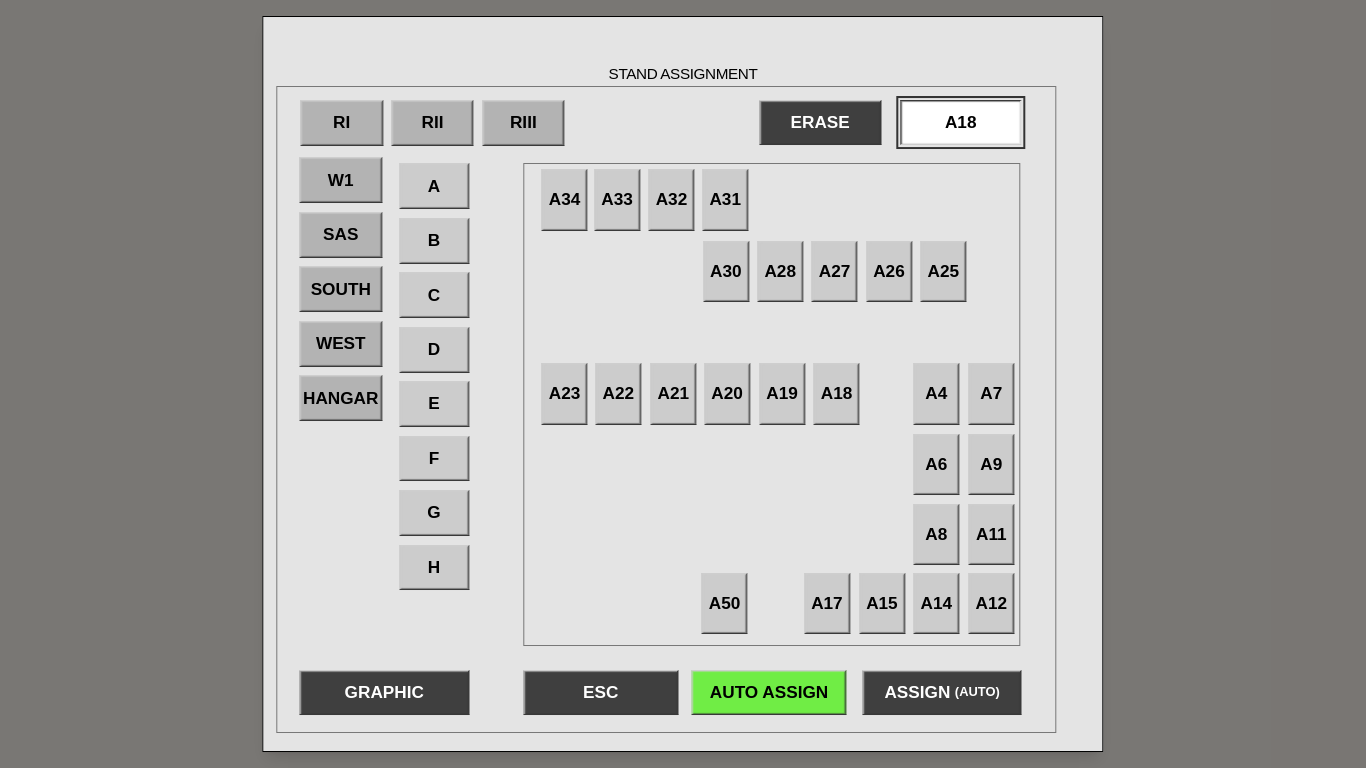
Test: arrival stand assignment dialog › shows the assignment mode or stand in smaller parentheses
Expected: the button "ASSIGN (AUTO)" is shown, [863,670,1021,715]
Click the button "B".
click(434, 241)  # box [399,218,469,264]
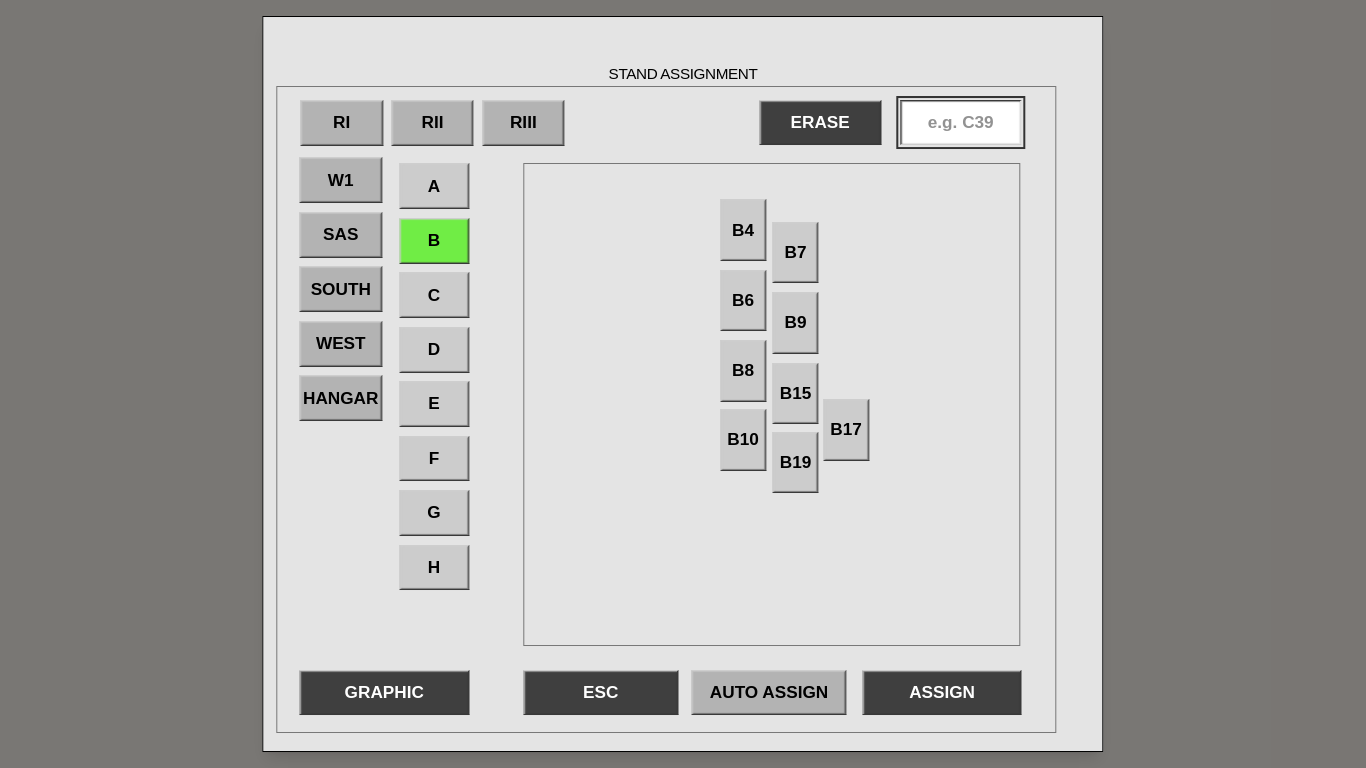
Result: the button "ASSIGN" is disabled at [863,670,1021,715]
Click the button "B6".
click(743, 300)  # box [720,270,766,331]
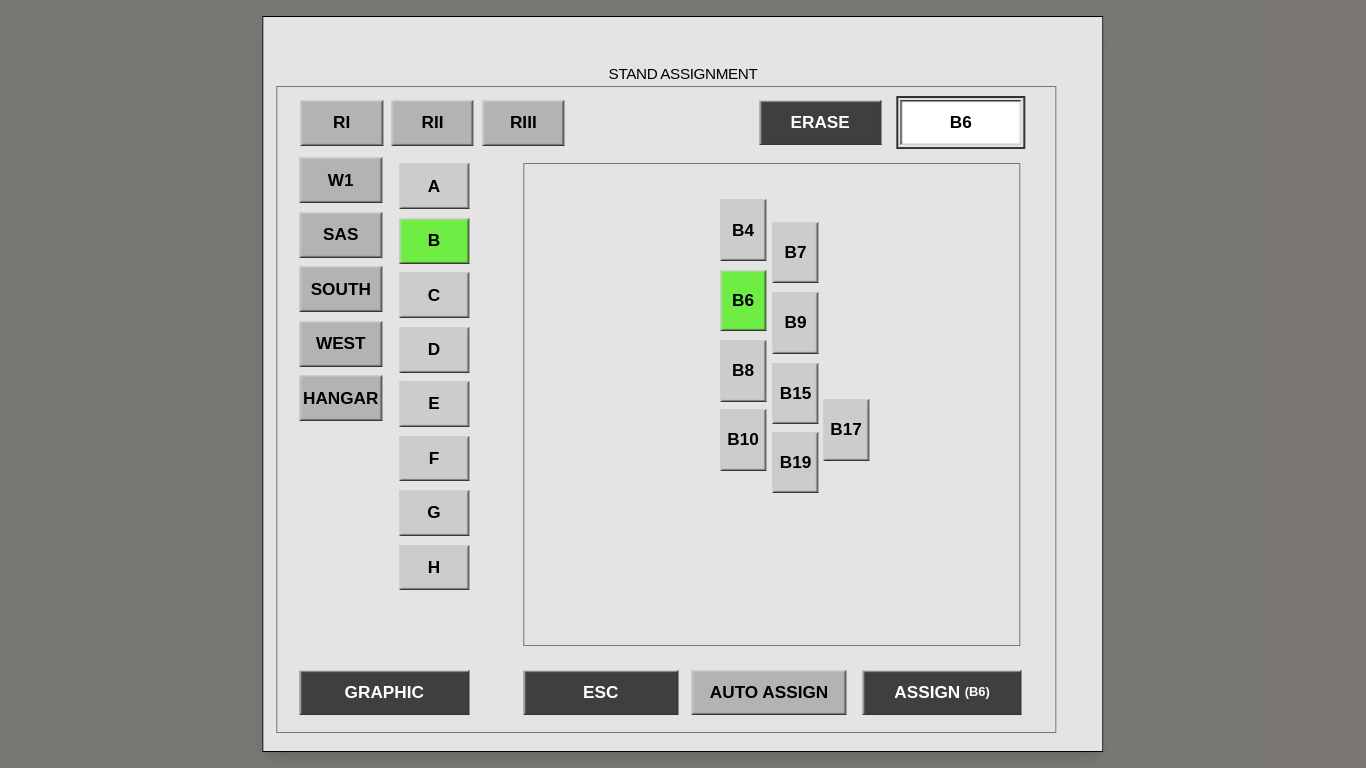
Result: the button "ASSIGN (B6)" is enabled at [863,670,1021,715]
Click the button "AUTO ASSIGN".
click(769, 692)  # box [692,670,846,715]
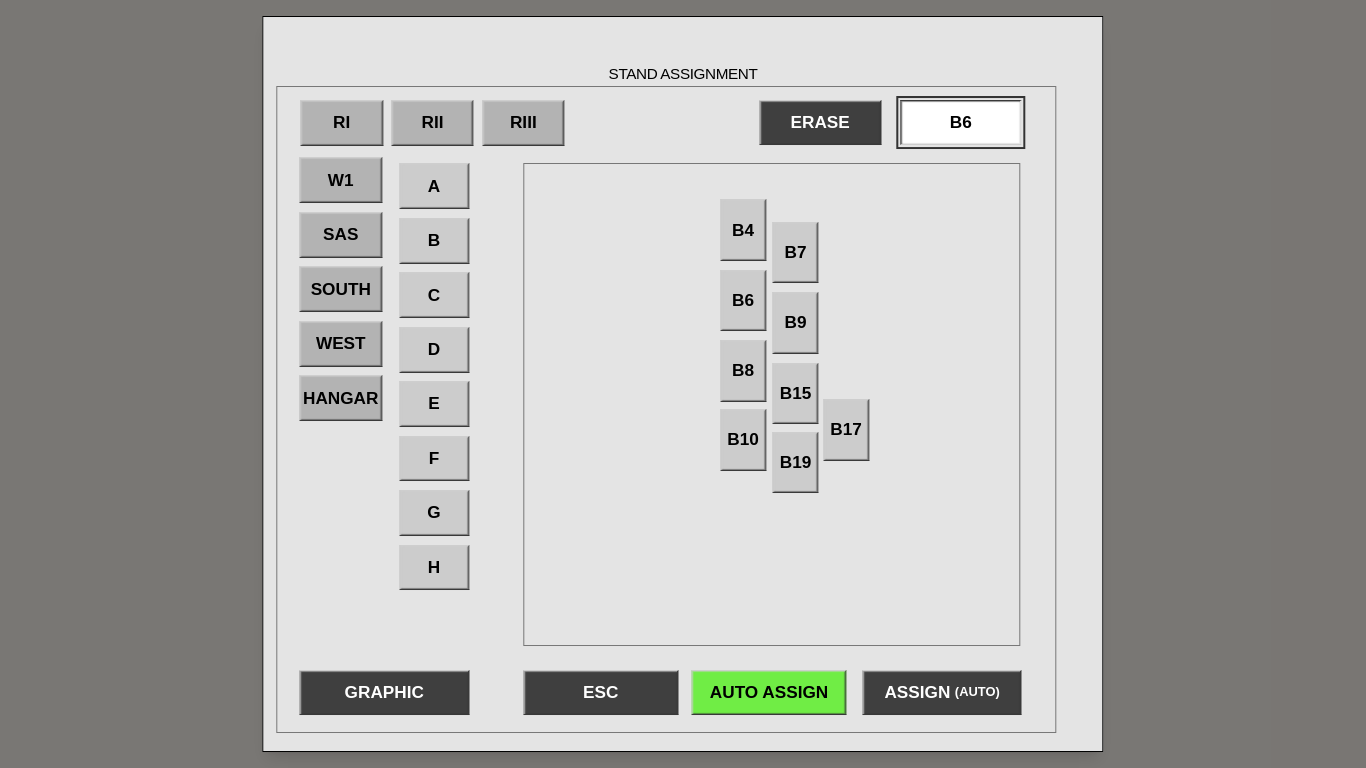
Result: the button "ASSIGN (AUTO)" is shown at [863,670,1021,715]
